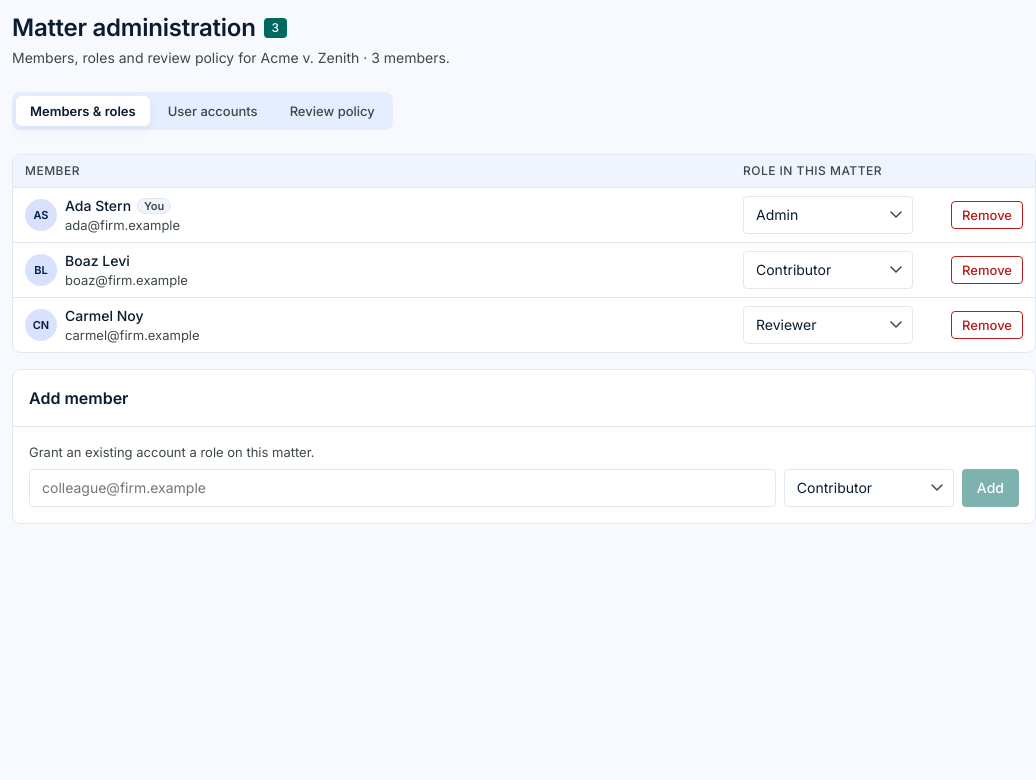
Scenario: AdminPage › surfaces the last-admin 409 in a banner without breaking the table
expect the text "Boaz Levi" is shown: met, box [65,252,130,269]
Click the button with aria-label "Remove Ada Stern": [987, 215] box [951,201,1023,229]
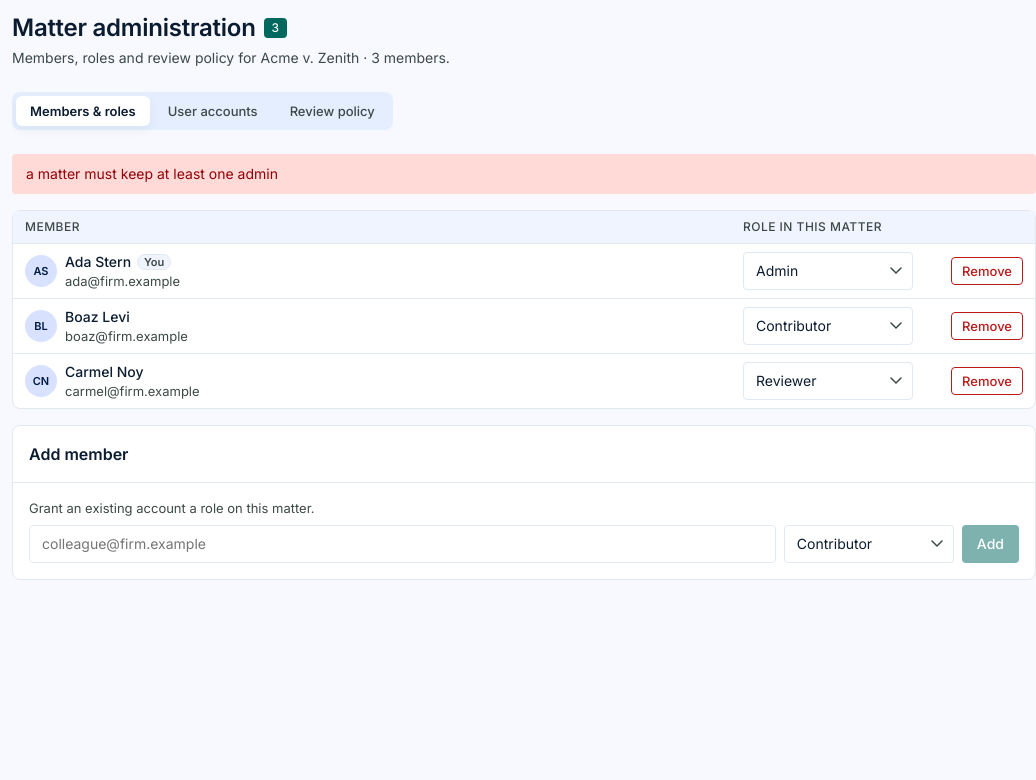
expect the text "Boaz Levi" is shown: met, box [65,308,130,325]
expect the text "a matter must keep at least one admin" is shown: met, box [12,154,1035,194]
